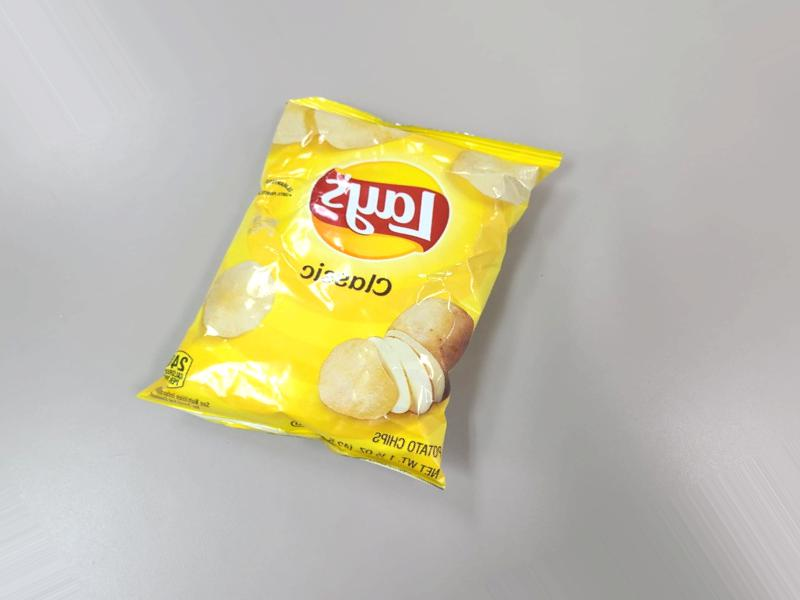lays: (188, 94, 538, 513)
